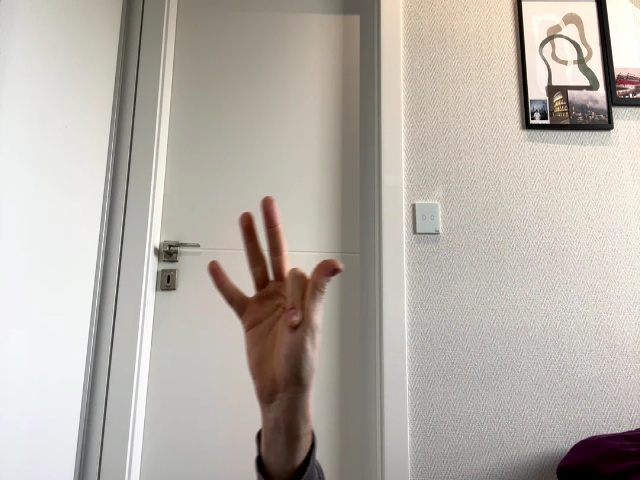F: (209, 197, 343, 394)
